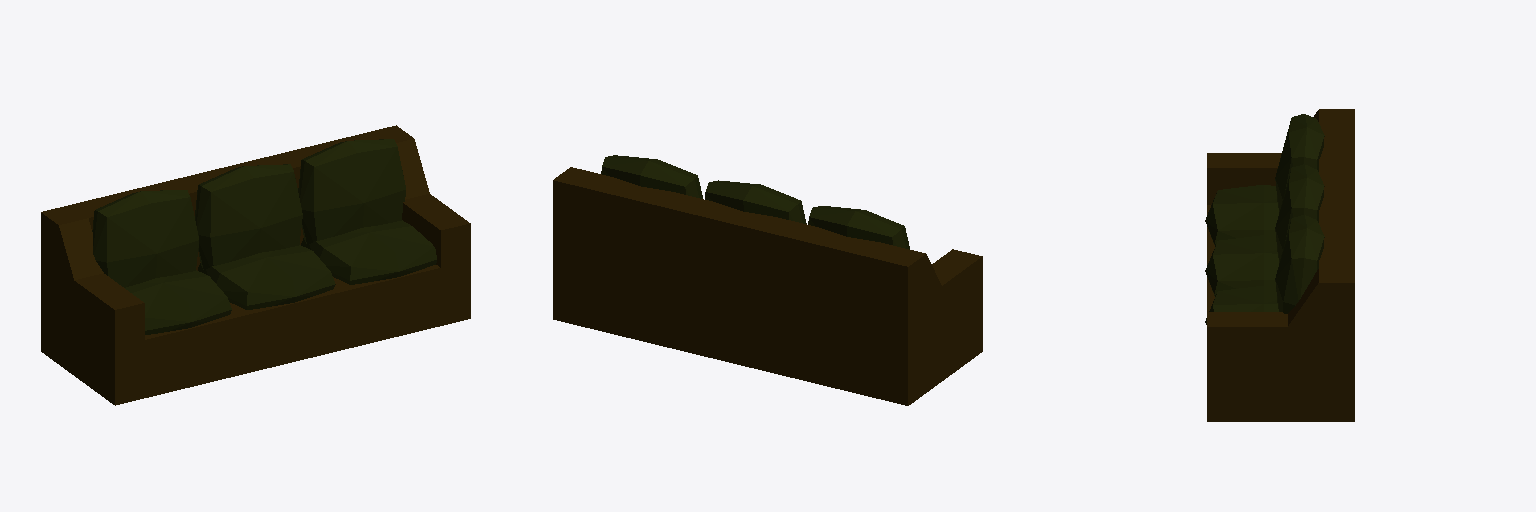
Rendered from Sofa1.obj.
3 renders of one model, left to right at view 1: azimuth 30°, elevation 25°; view 2: azimuth 150°, elevation 25°; view 3: azimuth 270°, elevation 25°, orthographic.
Parts seen in each view (by area): view 1: Sofa1_Cube.032; view 2: Sofa1_Cube.032; view 3: Sofa1_Cube.032.
Boxes of the visible parts, <box> form: Sofa1_Cube.032: <box>41,125,470,405</box>; Sofa1_Cube.032: <box>553,155,982,405</box>; Sofa1_Cube.032: <box>1205,109,1354,421</box>.
Bounding box in the file's own units: 2.99 × 1.27 × 1.09.